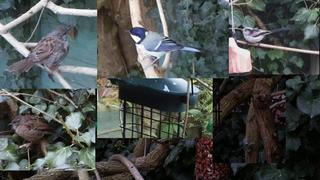dunnock: (5, 27, 70, 75), (7, 115, 69, 150)
great tit: (124, 27, 202, 71)
long tailed tit: (241, 27, 293, 47)
